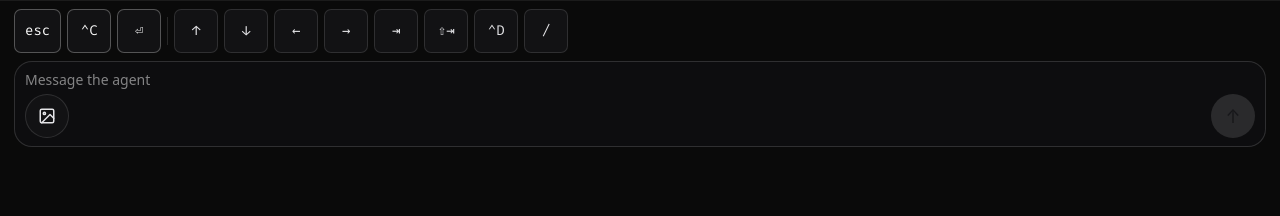
it: Composer › Enter accepts an open palette instead of sending
Step 1. Type "/comp" into the text box with placeholder "Message the agent" → (640, 80), box [25, 70, 1255, 90]
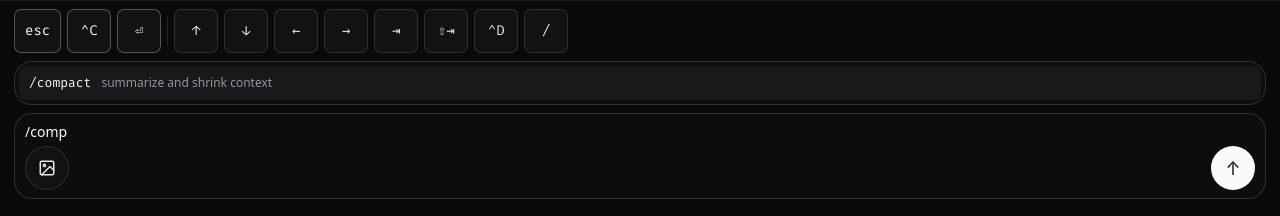
Step 2. Press Enter in the text box with placeholder "Message the agent", box [25, 122, 1255, 142]
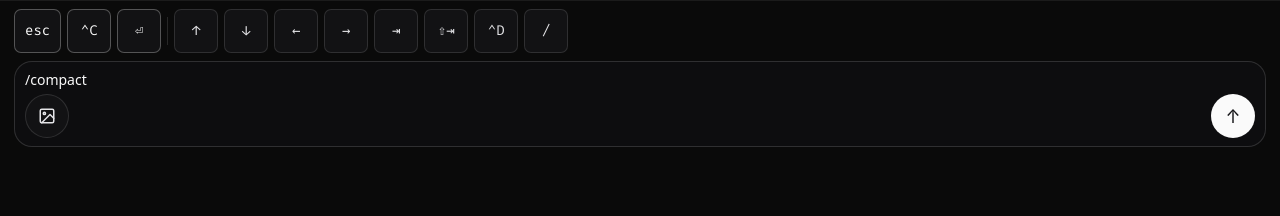
expect the text box with placeholder "Message the agent" holds "/compact ": met, box [25, 70, 1255, 90]
